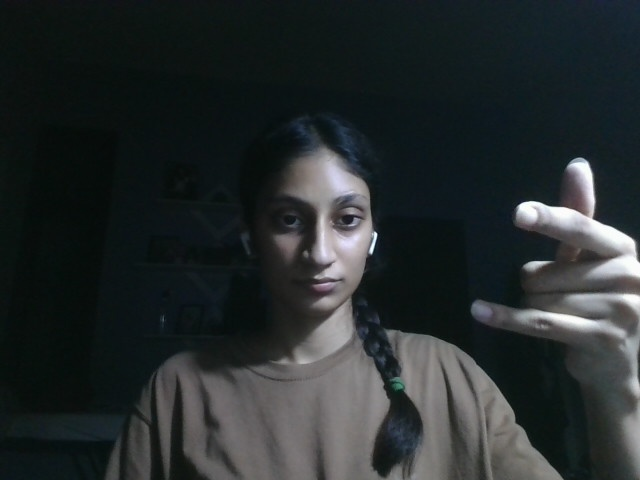i love you: (465, 158, 640, 406)
